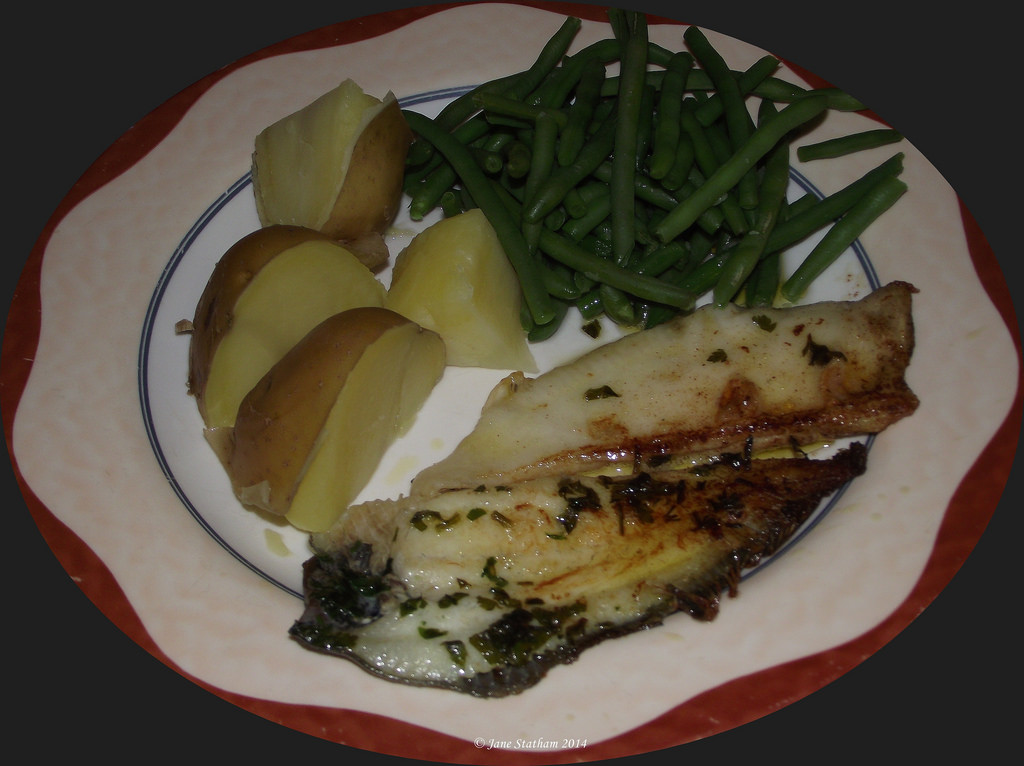boiled potatoes: (221, 310, 460, 514), (187, 231, 400, 385), (389, 201, 538, 384), (245, 65, 393, 224)
